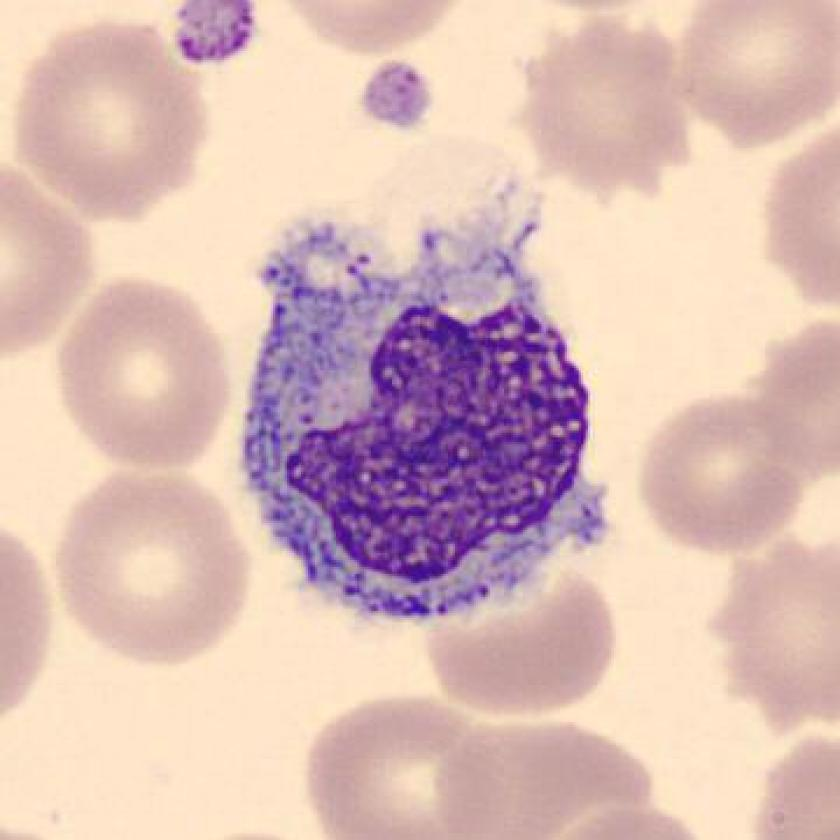monocyte: (223, 163, 626, 654)
